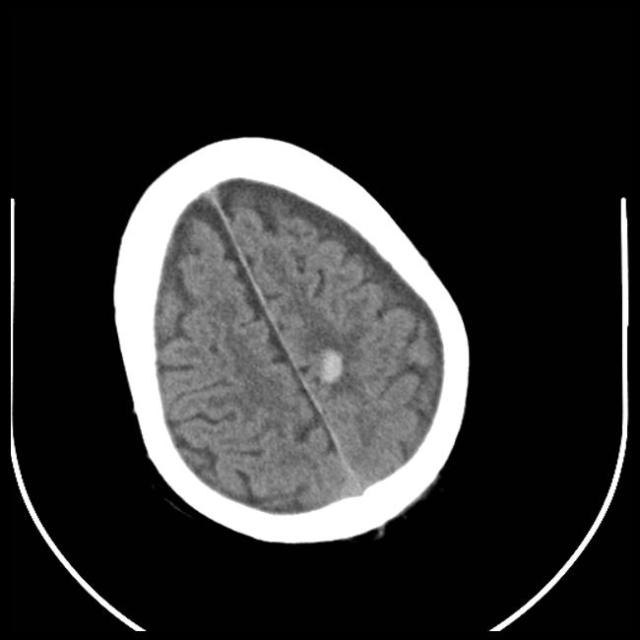lesion: (108, 133, 476, 546)
